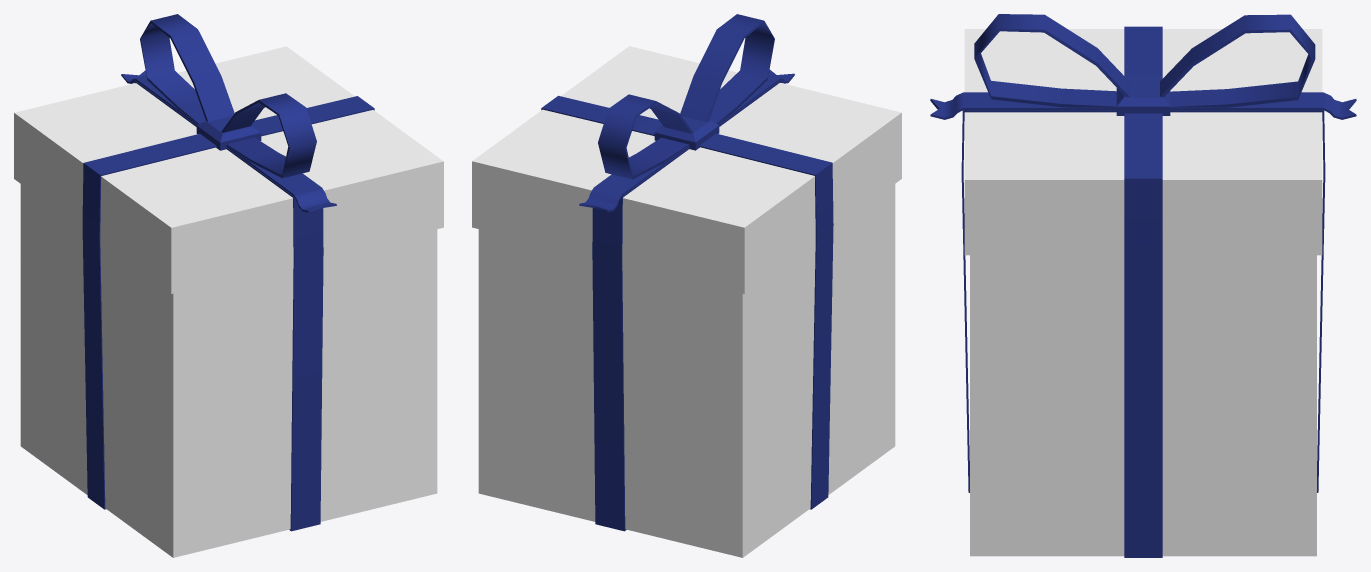
Rendered from MM_Present_Large.fbx.
3 renders of one model, left to right at view 1: azimuth 30°, elevation 25°; view 2: azimuth 150°, elevation 25°; view 3: azimuth 270°, elevation 25°, orthographic. The views are drawn at different scales.
Parts seen in each view (by area): view 1: MM_Present_Large; view 2: MM_Present_Large; view 3: MM_Present_Large.
Boxes of the visible parts, x1,y1,x2,y2 form: MM_Present_Large: (14,14,443,557); MM_Present_Large: (472,14,901,557); MM_Present_Large: (930,14,1356,557).
Bounding box in the file's own units: 52.57 × 74.18 × 61.87.
